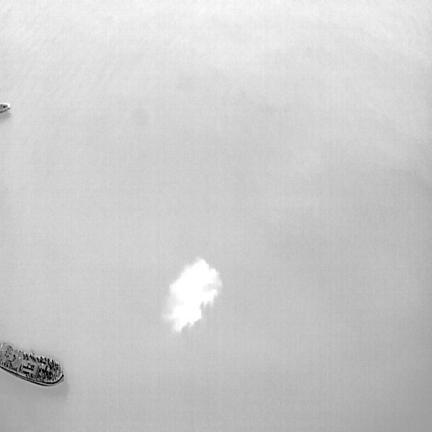flukeprints: (163, 258, 221, 332)
